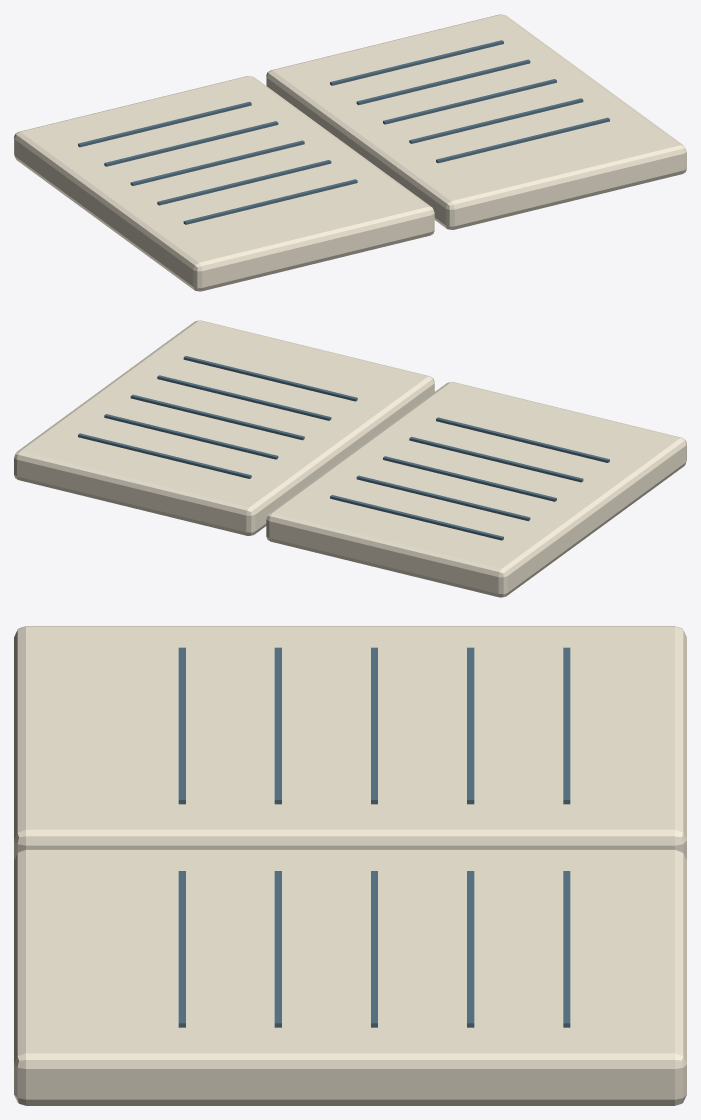
File: open_notebook.glb
3 views of the same model, one above another, from view 1: azimuth 30°, elevation 25°; view 2: azimuth 150°, elevation 25°; view 3: azimuth 270°, elevation 25° (orthographic). The views are drawn at different scales.
Parts seen in each view (by area): view 1: open_notebook_Mesh; view 2: open_notebook_Mesh; view 3: open_notebook_Mesh.
Part boxes in pixels (x1=…): open_notebook_Mesh: x1=14, y1=14, x2=686, y2=291; open_notebook_Mesh: x1=14, y1=320, x2=686, y2=597; open_notebook_Mesh: x1=14, y1=626, x2=686, y2=1105.
Size of the model in its own units: 0.43 by 0.026 by 0.28.
